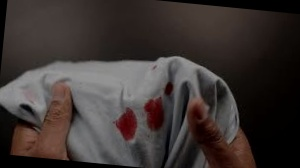blood: (113, 107, 141, 140), (142, 97, 168, 131)
